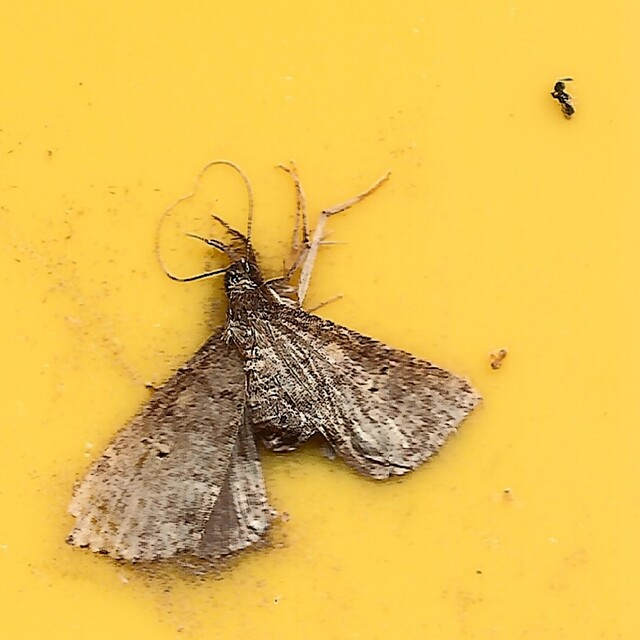Hymenoptera: (550, 72, 579, 121)
Lepidoptera: (61, 160, 485, 568)
